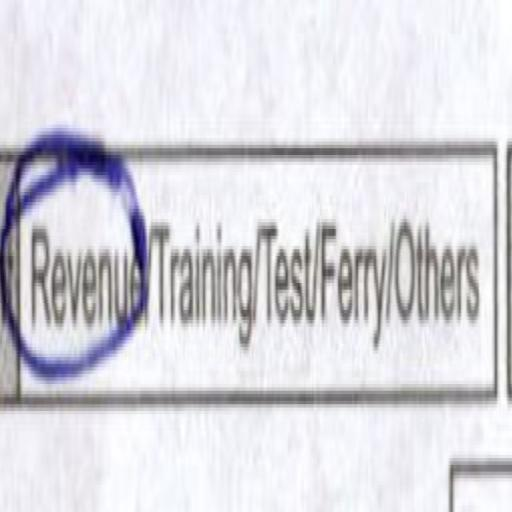check: (24, 87, 150, 471)
